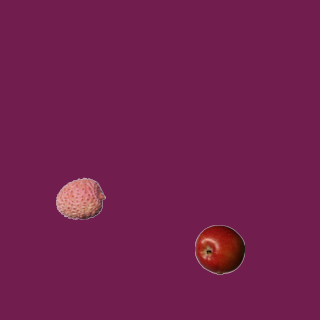Apple Braeburn: (194, 224, 244, 274)
Lychee: (55, 173, 105, 223)
